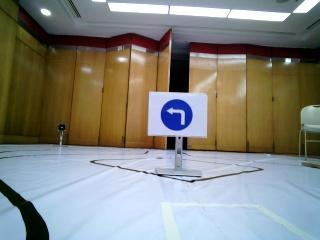left: (149, 96, 200, 138)
